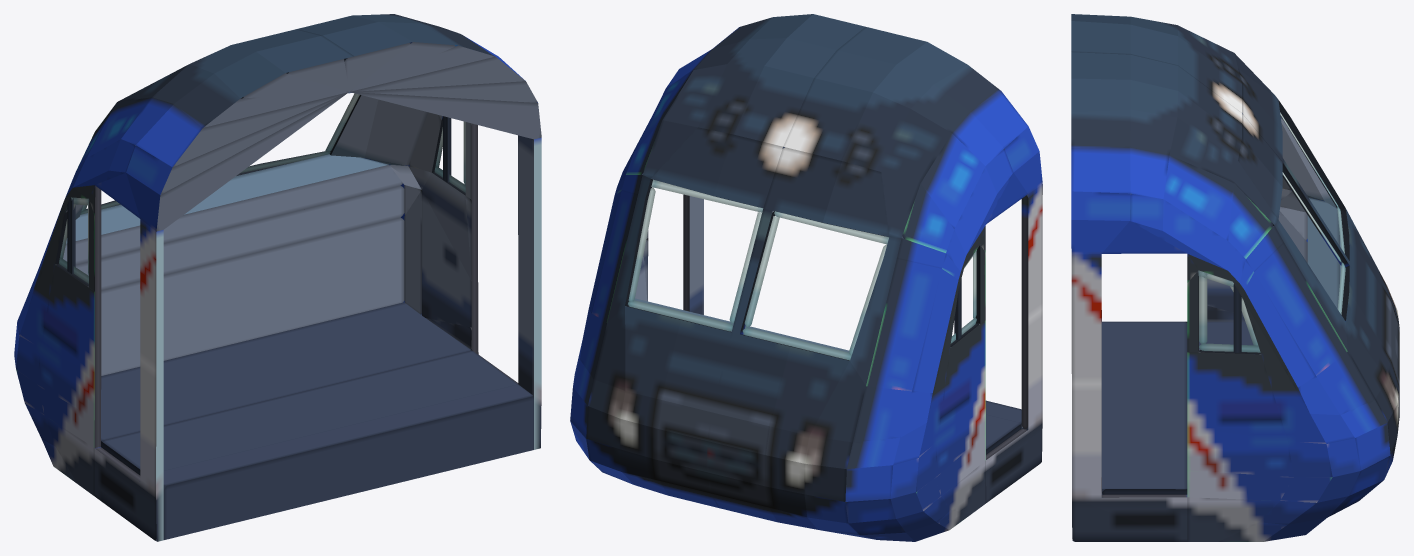
The model's file is df11g_front.obj.
The picture shows the model from 3 angles, left to right: view 1: azimuth 30°, elevation 25°; view 2: azimuth 150°, elevation 25°; view 3: azimuth 270°, elevation 25°; orthographic projection. The views are drawn at different scales.
Visible parts, largest first — view 1: cube_selection; view 2: cube_selection; view 3: cube_selection.
Part boxes in pixels (x1,y1,x2,y2): cube_selection: [14, 14, 541, 541]; cube_selection: [570, 14, 1042, 541]; cube_selection: [1071, 14, 1399, 541].
Size of the model in its own units: 3.17 by 3.44 by 2.53.
